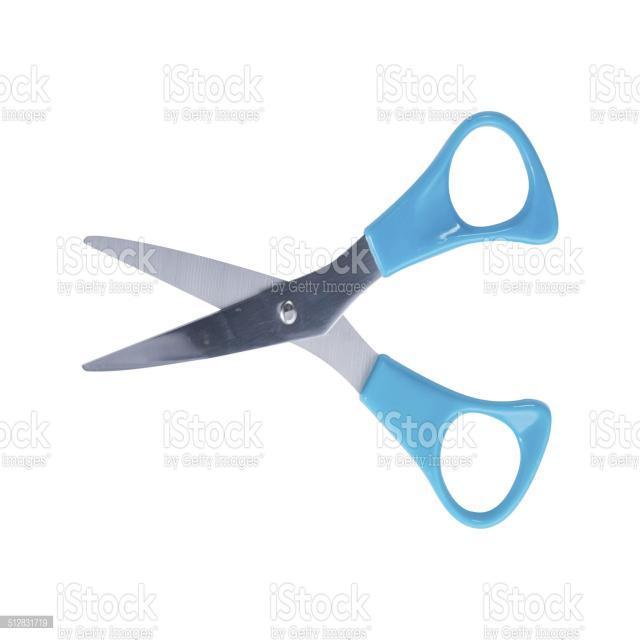scissor: (83, 112, 560, 530)
